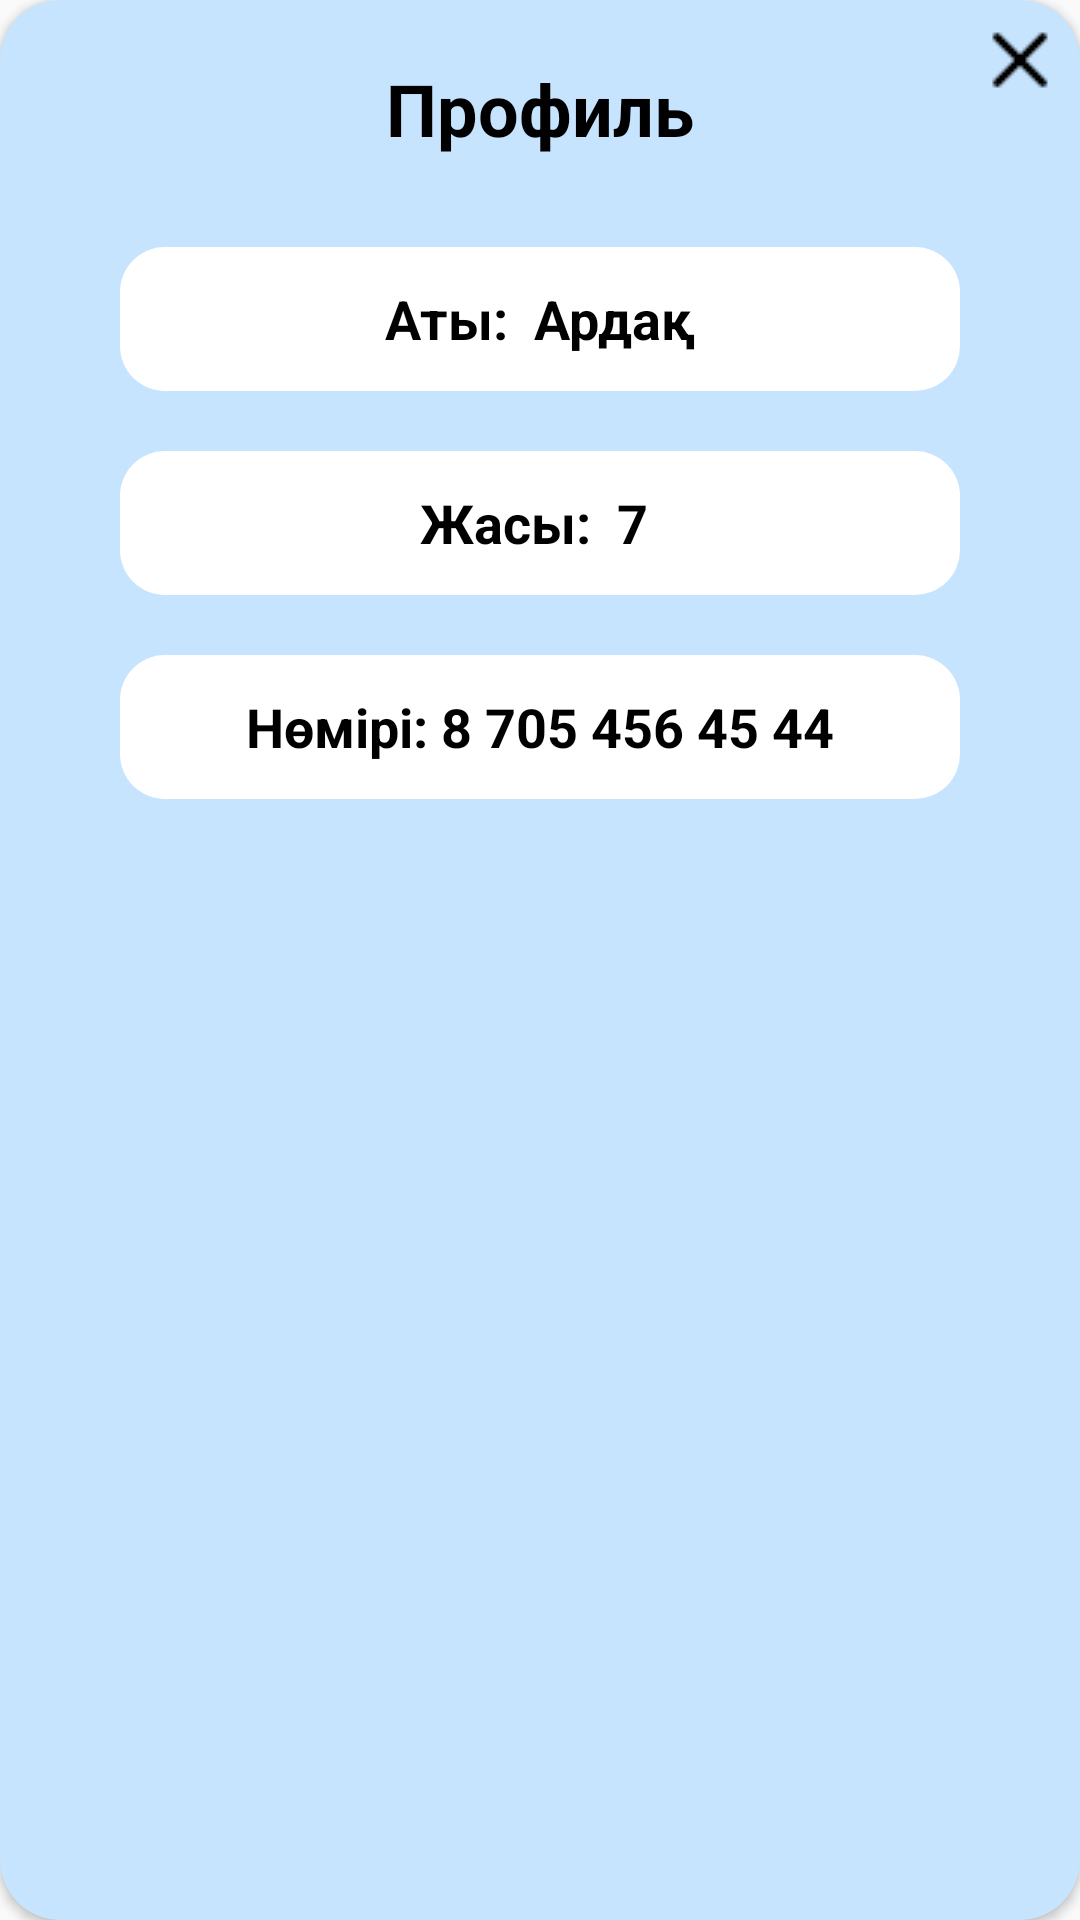

Locate icon controls on the screen. Image size 1080x1920, boxes as (x1, y1, x2, y2).
close: (992, 32, 1048, 88)
